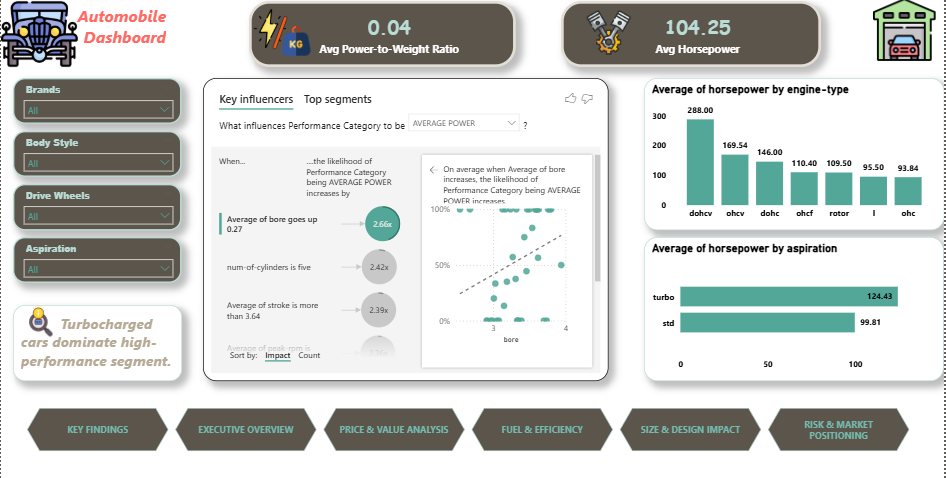

Layout of this report page (visuals, bound fields, positions):
{"tool":"powerbi","page":{"name":"PERFORMANCE ANALYSIS","canvas":[1400,720],"ordinal":4},"visuals":[{"type":"card","fields":{"Values":["automobile_data.Avg Power-to-Weight Ratio"]},"box":[368.8,9.1,395.9,98.3],"z":0},{"type":"slicer","fields":{"Values":["automobile_data.make"]},"box":[18.1,122.9,249.6,68],"z":1000},{"type":"slicer","fields":{"Values":["automobile_data.body-style"]},"box":[18.1,202.1,250,68],"z":2000},{"type":"slicer","fields":{"Values":["automobile_data.drive-wheels"]},"box":[18.1,280.9,250.2,68.8],"z":3000},{"type":"slicer","fields":{"Values":["automobile_data.aspiration"]},"box":[18.1,359,250.2,67.8],"z":4000},{"type":"textbox","box":[0,9.4,250.2,81.3],"z":5000},{"type":"image","box":[0,0,113.6,115.9],"z":6000},{"type":"image","box":[1295.2,0,93.2,102.2],"z":7000},{"type":"card","fields":{"Values":["automobile_data.Avg Horsepower"]},"box":[830.7,9.1,385.6,98.3],"z":8000},{"type":"image","box":[849.2,20.8,105.4,69.8],"z":9000},{"type":"image","box":[368.2,20.8,62.4,57.9],"z":10000},{"type":"image","box":[368.2,0,92,112.8],"z":11000},{"type":"image","box":[415.7,34.1,44.5,68.3],"z":12000},{"type":"textbox","box":[18.1,460.6,251,112.6],"z":13000},{"type":"image","box":[31.1,460.6,55.6,46.6],"z":14000},{"type":"keyDriversVisual","fields":{"Target":["automobile_data.Performance Category"],"ExplainBy":["Avg(automobile_data.peak-rpm)","automobile_data.num-of-cylinders","Avg(automobile_data.stroke)","Avg(automobile_data.bore)"]},"box":[299.8,123.1,602,450.3],"z":15000},{"type":"clusteredColumnChart","fields":{"Category":["automobile_data.engine-type"],"Y":["Avg(automobile_data.horsepower)"]},"box":[954.2,123.1,445.8,225.7],"z":16000},{"type":"clusteredBarChart","fields":{"Category":["automobile_data.aspiration"],"Y":["Avg(automobile_data.horsepower)"]},"box":[955,359,445,214],"z":17000},{"type":"pageNavigator","box":[38.8,613.3,1315.9,64.7],"z":18000}]}

Visuals, with their boxes in screenshot pixels (x1, y1, x2, y2), scaled from the page's 1400x720 canvas onto the 946x478 screenshot:
card - automobile_data.Avg Power-to-Weight Ratio: x1=249 y1=6 x2=517 y2=71
slicer - automobile_data.make: x1=12 y1=82 x2=181 y2=127
slicer - automobile_data.body-style: x1=12 y1=134 x2=181 y2=179
slicer - automobile_data.drive-wheels: x1=12 y1=186 x2=181 y2=232
slicer - automobile_data.aspiration: x1=12 y1=238 x2=181 y2=283
textbox: x1=0 y1=6 x2=169 y2=60
image: x1=0 y1=0 x2=77 y2=77
image: x1=875 y1=0 x2=938 y2=68
card - automobile_data.Avg Horsepower: x1=561 y1=6 x2=822 y2=71
image: x1=574 y1=14 x2=645 y2=60
image: x1=249 y1=14 x2=291 y2=52
image: x1=249 y1=0 x2=311 y2=75
image: x1=281 y1=23 x2=311 y2=68
textbox: x1=12 y1=306 x2=182 y2=381
image: x1=21 y1=306 x2=59 y2=337
keyDriversVisual - automobile_data.Performance Category x Avg(automobile_data.peak-rpm): x1=203 y1=82 x2=609 y2=381
clusteredColumnChart - automobile_data.engine-type x Avg(automobile_data.horsepower): x1=645 y1=82 x2=945 y2=232
clusteredBarChart - automobile_data.aspiration x Avg(automobile_data.horsepower): x1=645 y1=238 x2=945 y2=380
pageNavigator: x1=26 y1=407 x2=915 y2=450
